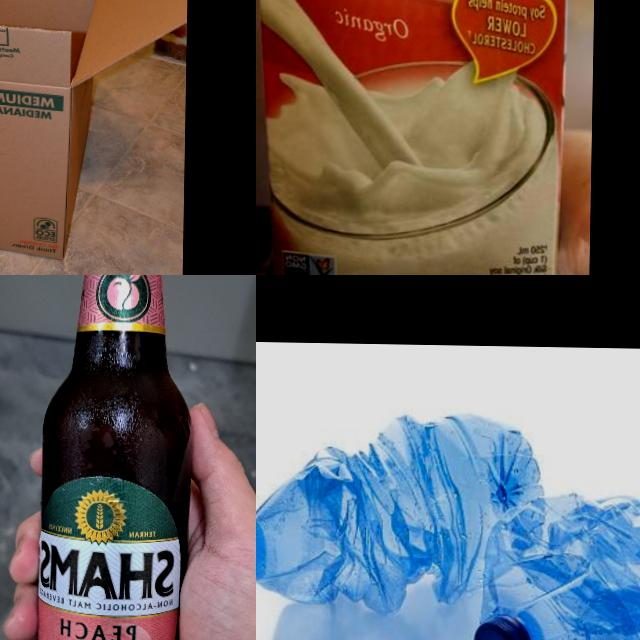caixinha: (256, 0, 572, 275)
garrafa de vidro: (32, 275, 197, 640)
garrafa plástica: (256, 408, 544, 616), (480, 490, 640, 640)
papelão: (0, 0, 188, 264)
tampa plástica: (472, 620, 530, 640)
